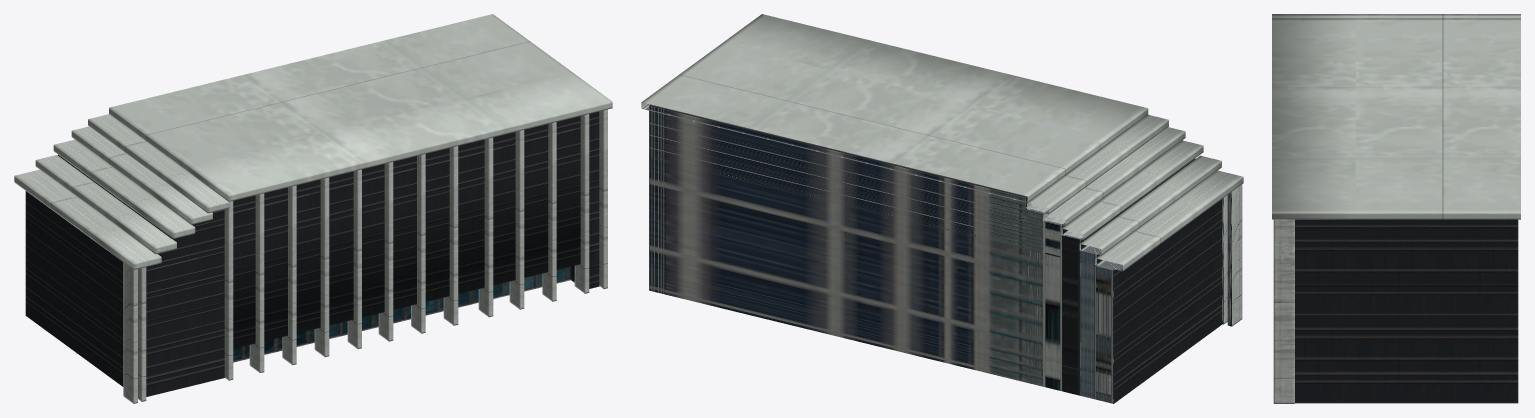
The model's file is 00_03_outside_building_foreground_b.dae.
The picture shows the model from 3 angles, left to right: view 1: azimuth 30°, elevation 25°; view 2: azimuth 150°, elevation 25°; view 3: azimuth 270°, elevation 25°; orthographic projection. The views are drawn at different scales.
Parts seen in each view (by area): view 1: Box007; view 2: Box007; view 3: Box007.
Boxes of the visible parts, x1,y1,x2,y2 form: Box007: (14,14,612,403); Box007: (641,14,1243,403); Box007: (1272,14,1520,403).
Size of the model in its own units: 96.94 by 36.1 by 42.04.
